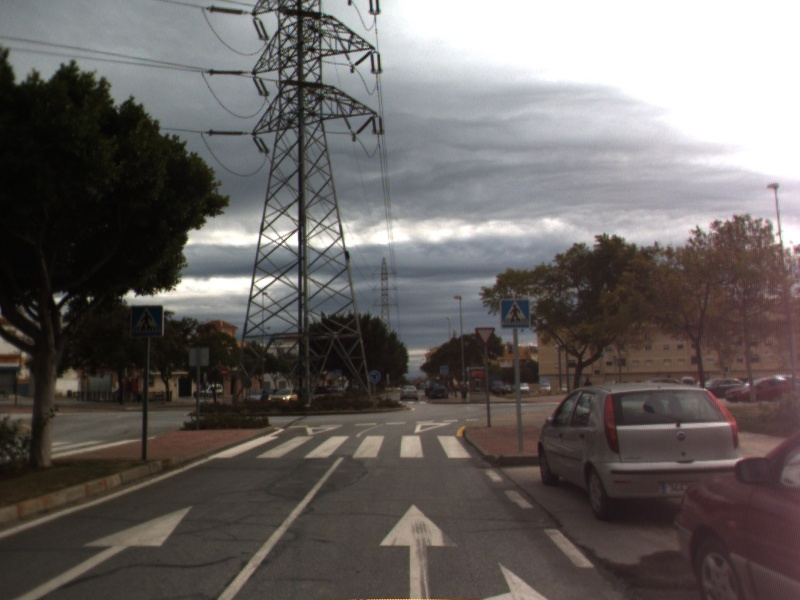STRAIGHT: (7, 502, 197, 600)
STRAIGHT_RIGHT: (376, 498, 552, 600)
